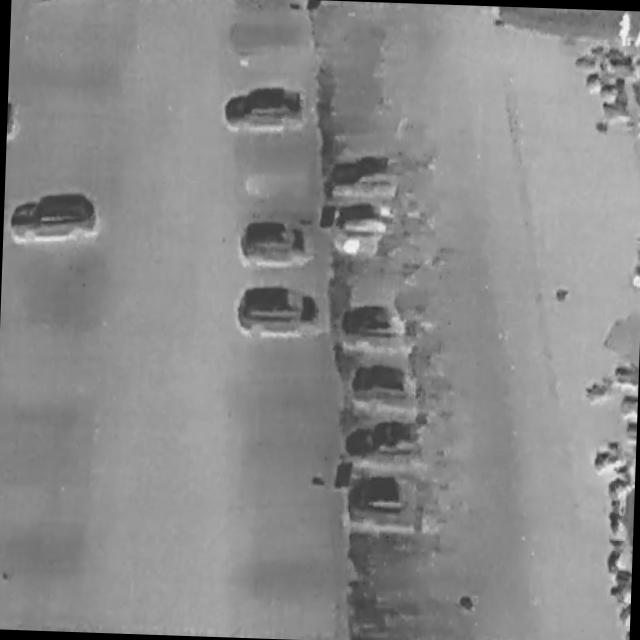person: (618, 13, 635, 51), (634, 12, 640, 50)
